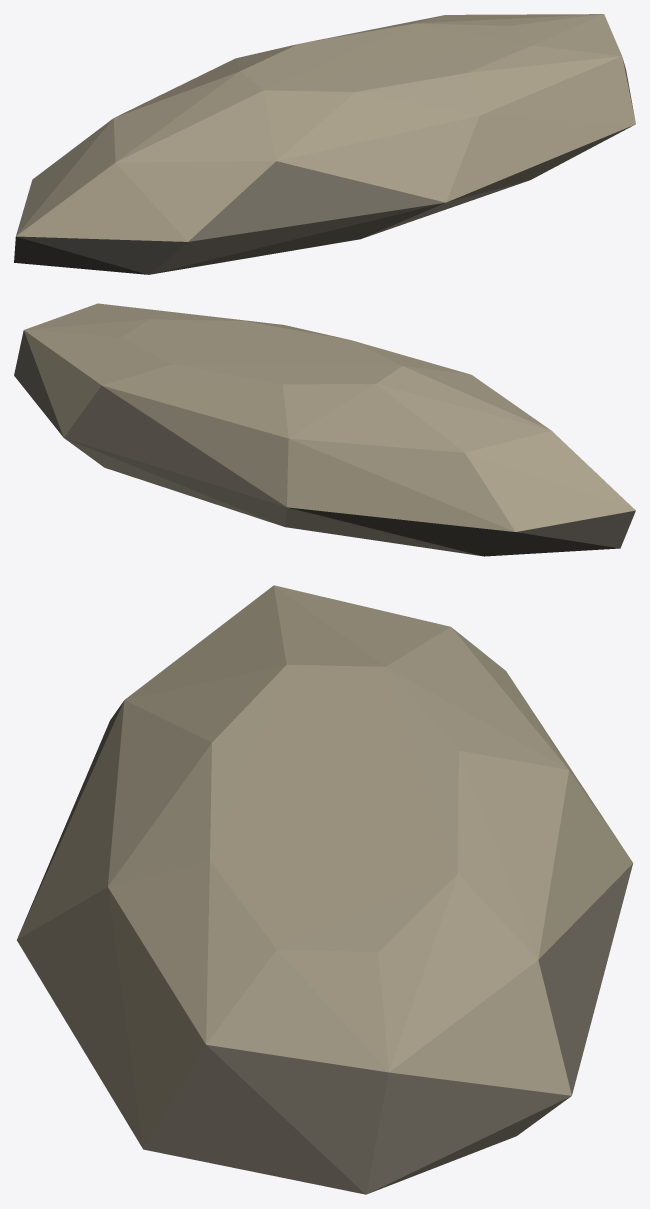
The model's file is TW_ROCK_FLAT_SLAB_B_LOD0.glb.
3 renders of one model, top to bottom at view 1: azimuth 30°, elevation 25°; view 2: azimuth 150°, elevation 25°; view 3: azimuth 270°, elevation 25°, orthographic. The views are drawn at different scales.
Parts seen in each view (by area): view 1: TW_ROCK_FLAT_SLAB_B_LOD0; view 2: TW_ROCK_FLAT_SLAB_B_LOD0; view 3: TW_ROCK_FLAT_SLAB_B_LOD0.
Part boxes in pixels (x1,y1,x2,y2): TW_ROCK_FLAT_SLAB_B_LOD0: (14,14,635,274); TW_ROCK_FLAT_SLAB_B_LOD0: (14,303,635,556); TW_ROCK_FLAT_SLAB_B_LOD0: (17,585,633,1194).
Bounding box in the file's own units: 1.75 × 0.3269 × 0.7715.
Materials: 1 (1 with a texture image).
